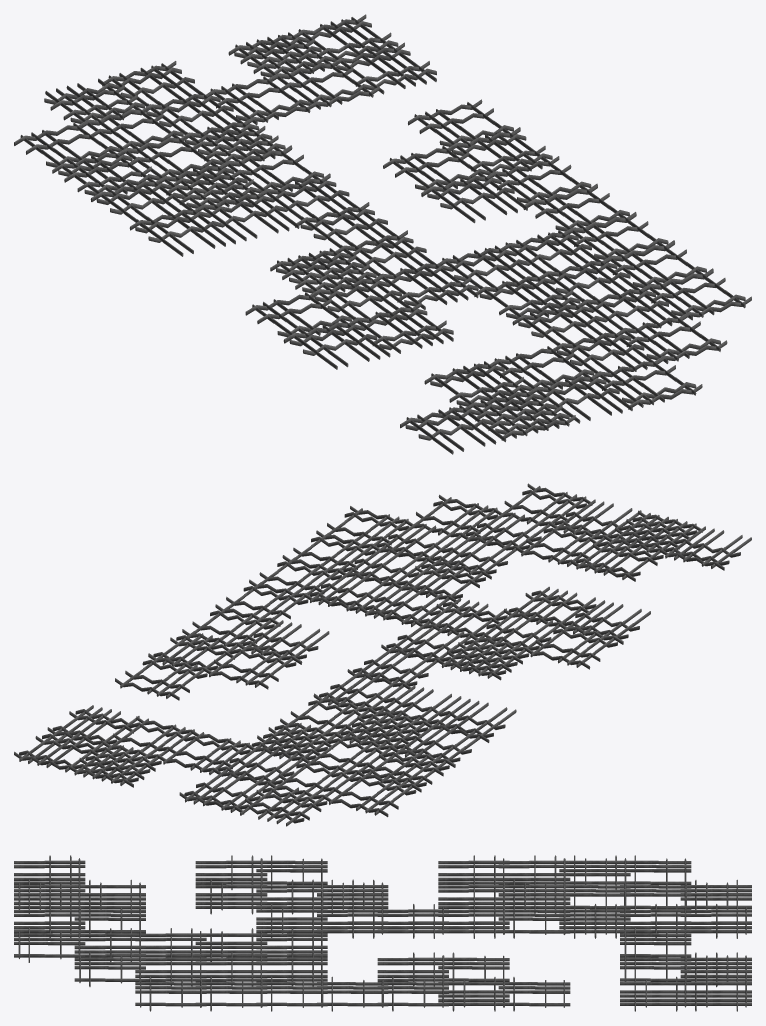
File: Z3 Block 2.fbx
3 renders of one model, top to bottom at view 1: azimuth 30°, elevation 25°; view 2: azimuth 150°, elevation 25°; view 3: azimuth 270°, elevation 25°, orthographic. The views are drawn at different scales.
Visible parts, largest first — view 1: polySurface41_4, polySurface44_4, polySurface44, polySurface41_1, polySurface44_3, polySurface105_7, polySurface104_18, polySurface105_11, polySurface105_1, polySurface105_10; view 2: polySurface44_3, polySurface44, polySurface41_1, polySurface41_3, polySurface41_4, polySurface44_4, polySurface44_2, polySurface41_2, polySurface41, polySurface44_1, polySurface32_1, polySurface32; view 3: polySurface41_1, polySurface105_7, polySurface44, polySurface41_4, polySurface44_4, polySurface41, polySurface105_18, polySurface105_1, polySurface105_9, polySurface32_1, polySurface105_4, polySurface105 (+126 smaller).
Boxes of the visible parts, left/top/right/bottom form: polySurface41_4: left=520, top=403, right=575, bottom=430; polySurface44_4: left=482, top=410, right=538, bottom=440; polySurface44: left=247, top=53, right=303, bottom=79; polySurface41_1: left=236, top=133, right=291, bottom=161; polySurface44_3: left=289, top=269, right=345, bottom=295; polySurface105_7: left=140, top=61, right=194, bottom=90; polySurface104_18: left=400, top=412, right=455, bottom=440; polySurface105_11: left=372, top=230, right=426, bottom=259; polySurface105_1: left=537, top=227, right=591, bottom=256; polySurface105_10: left=333, top=202, right=387, bottom=231; polySurface44_3: left=483, top=642, right=534, bottom=667; polySurface44: left=116, top=749, right=166, bottom=774; polySurface41_1: left=263, top=718, right=312, bottom=743; polySurface41_3: left=453, top=633, right=502, bottom=659; polySurface41_4: left=621, top=510, right=670, bottom=535; polySurface44_4: left=651, top=519, right=702, bottom=543; polySurface44_2: left=382, top=715, right=433, bottom=740; polySurface41_2: left=352, top=707, right=401, bottom=732; polySurface41: left=85, top=741, right=134, bottom=766; polySurface44_1: left=294, top=727, right=344, bottom=752; polySurface32_1: left=407, top=754, right=455, bottom=777; polySurface32: left=285, top=789, right=331, bottom=813; polySurface41_1: left=559, top=919, right=600, bottom=938; polySurface105_7: left=711, top=920, right=751, bottom=938; polySurface44: left=680, top=952, right=721, bottom=969; polySurface41_4: left=14, top=894, right=54, bottom=913; polySurface44_4: left=14, top=879, right=54, bottom=896; polySurface41: left=680, top=967, right=721, bottom=987; polySurface105_18: left=44, top=871, right=85, bottom=884; polySurface105_1: left=287, top=968, right=327, bottom=986; polySurface105_9: left=468, top=920, right=509, bottom=938; polySurface32_1: left=559, top=855, right=600, bottom=872; polySurface105_4: left=287, top=944, right=327, bottom=957; polySurface105: left=408, top=968, right=448, bottom=986.
Size of the model in its own units: 1524 by 36.3 by 3182.
1 material, 1 textured.
